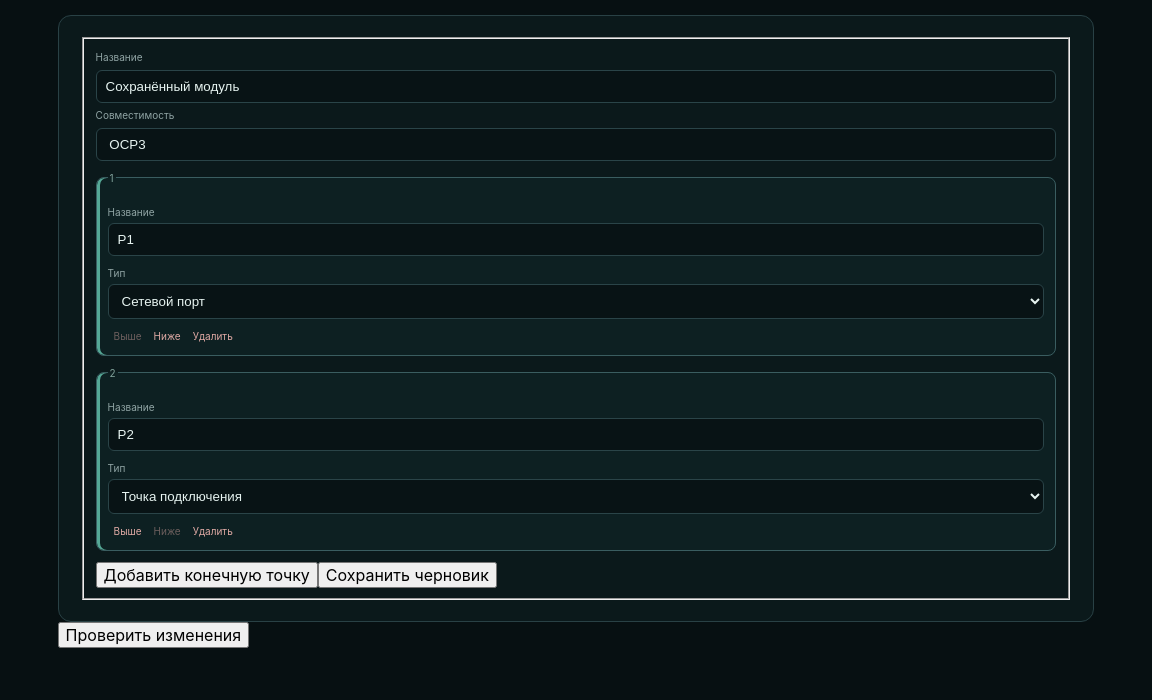
module persisted draft and review › checks only saved generation and displays installation, object and source revision
The image size is (1152, 700).
(page scrolled)
Click the button "Проверить изменения" at (153, 635), box top-left (58, 622), bottom-right (249, 648)
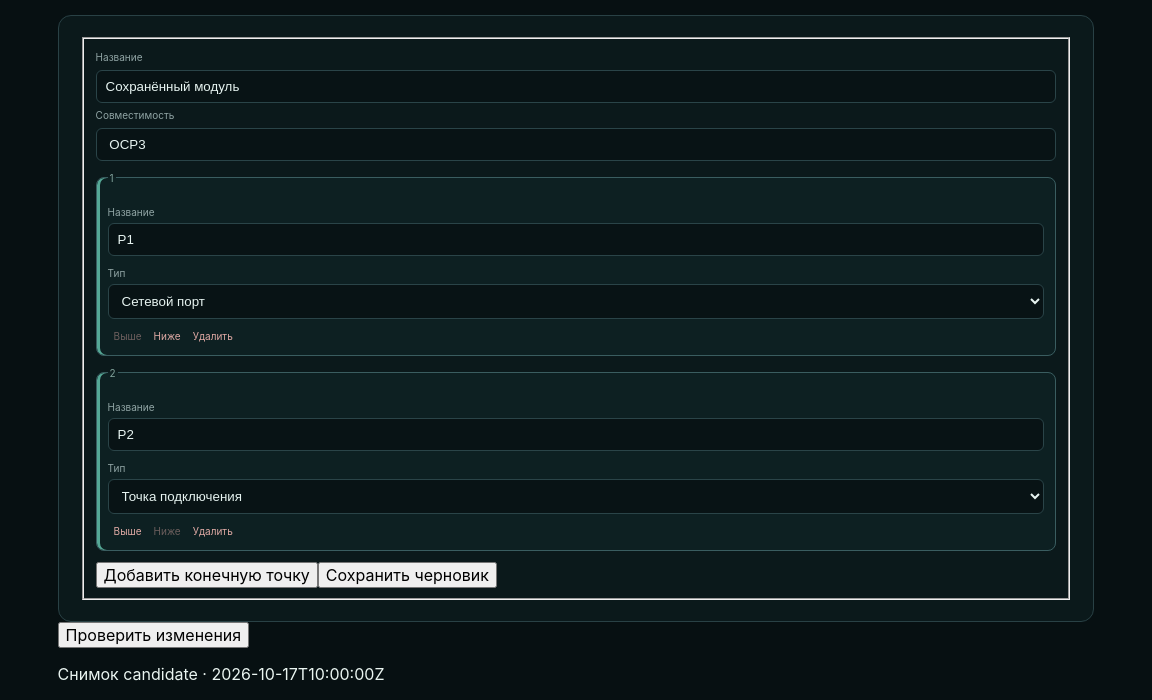
Replace the text in the 2nd field showing "P1" with "Unsaved" at (576, 239), box top-left (108, 223), bottom-right (1044, 256)
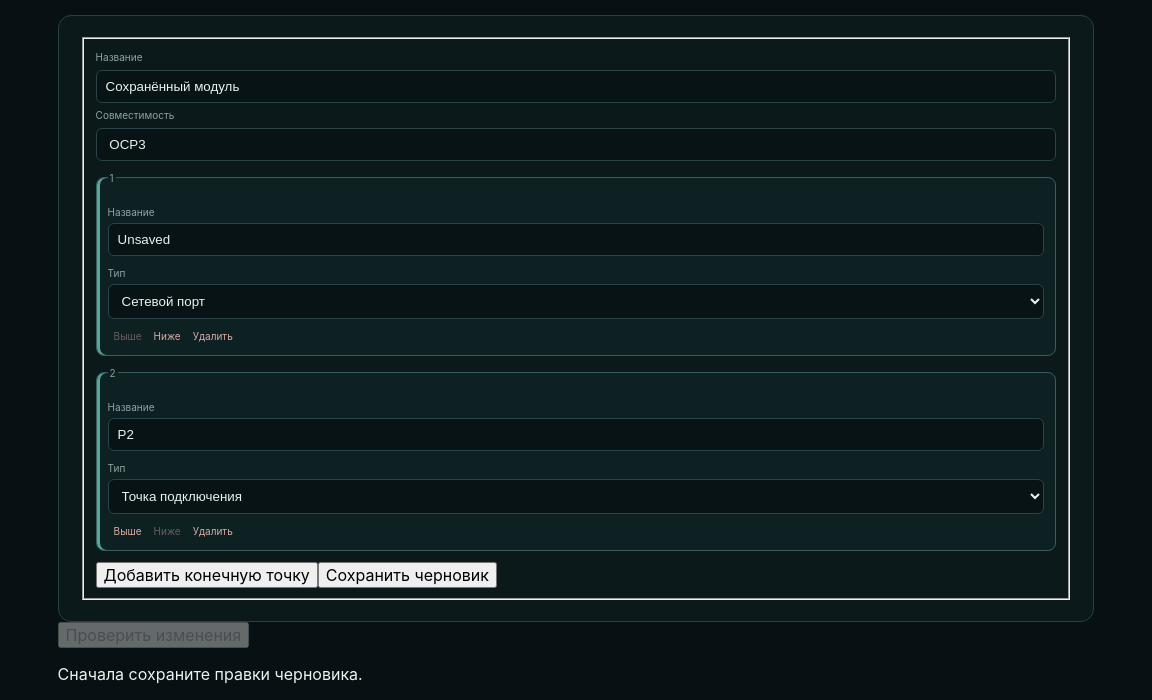
Click the button "Сохранить черновик" at (407, 575), box top-left (318, 562), bottom-right (497, 588)
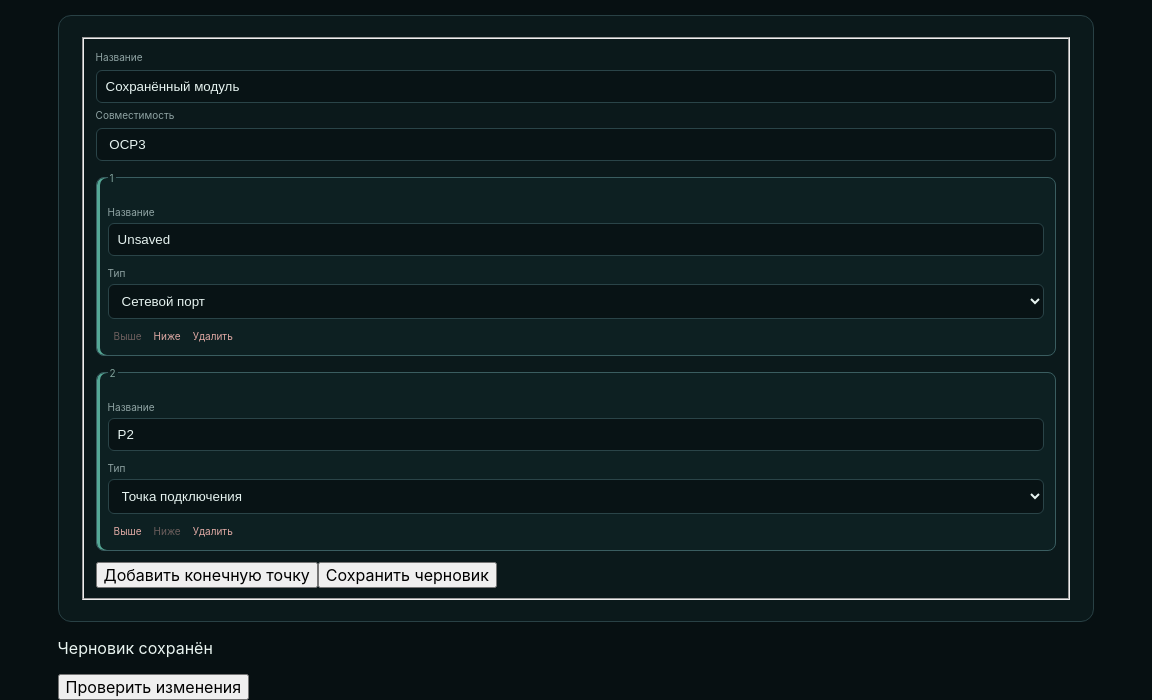
Now the text "Черновик сохранён" is shown, box top-left (58, 638), bottom-right (213, 658)
